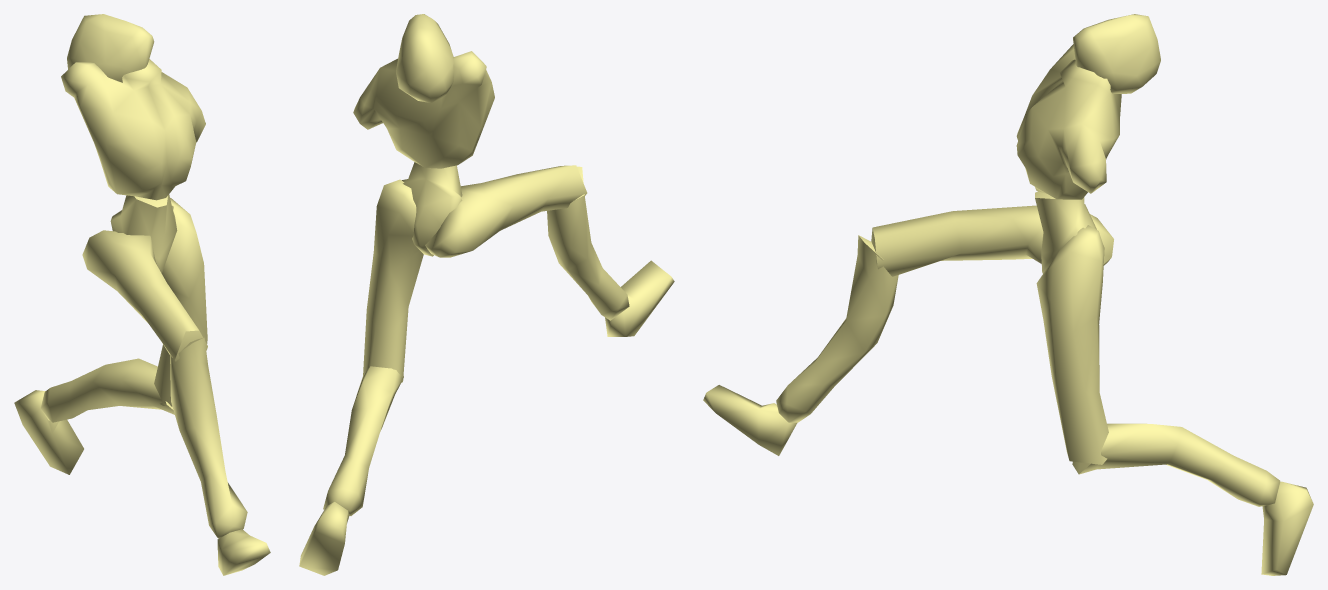
The model's file is filth28.obj.
The picture shows the model from 3 angles, left to right: view 1: azimuth 30°, elevation 25°; view 2: azimuth 150°, elevation 25°; view 3: azimuth 270°, elevation 25°; orthographic projection. The views are drawn at different scales.
Visible parts, largest first — view 1: Melee_Husk; view 2: Melee_Husk; view 3: Melee_Husk.
Boxes of the visible parts, x1,y1,x2,y2 form: Melee_Husk: (14,14,270,575); Melee_Husk: (299,14,674,575); Melee_Husk: (703,14,1313,575).
Size of the model in its own units: 20.44 by 68.33 by 69.29.
